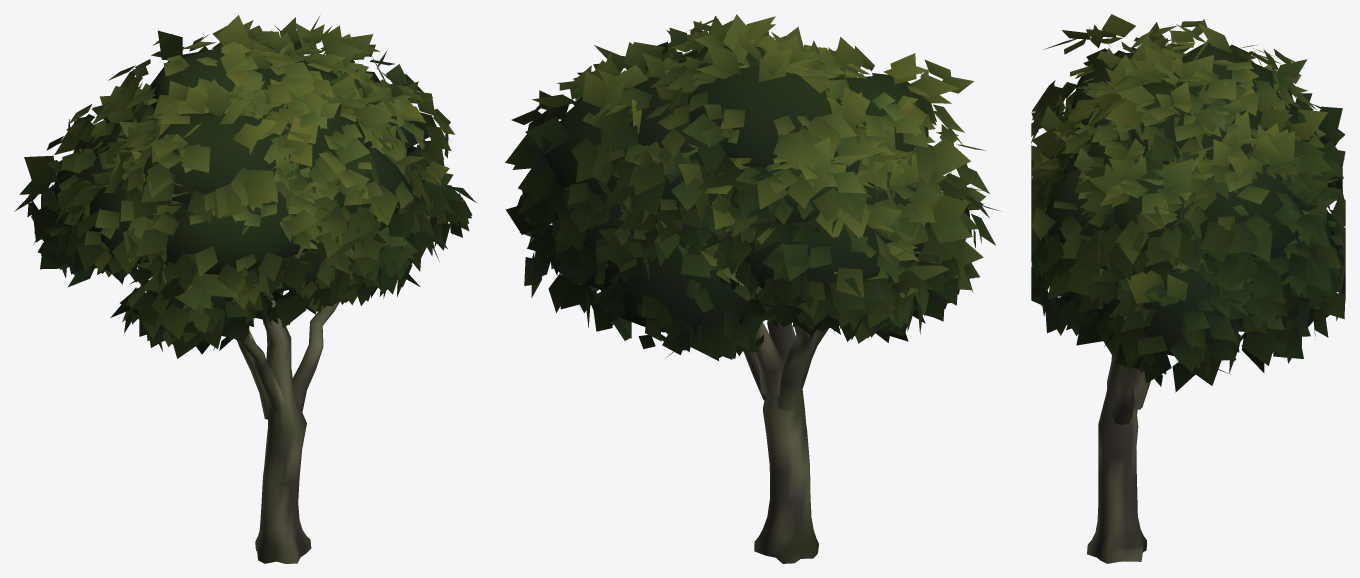
Rendered from street_tree_a.glb.
3 views of the same model, side by side, from view 1: azimuth 30°, elevation 25°; view 2: azimuth 150°, elevation 25°; view 3: azimuth 270°, elevation 25° (orthographic). The views are drawn at different scales.
Visible parts, largest first — view 1: Foliage, Trunk; view 2: Foliage, Trunk; view 3: Foliage, Trunk.
Part boxes in pixels (x1,y1,x2,y2): Foliage: (14,15,476,358); Trunk: (237,291,339,563); Foliage: (505,14,1000,360); Trunk: (743,320,828,563); Foliage: (1031,14,1345,392); Trunk: (1087,355,1150,563).
Bounding box in the file's own units: 9.33 × 11.22 × 6.1.
